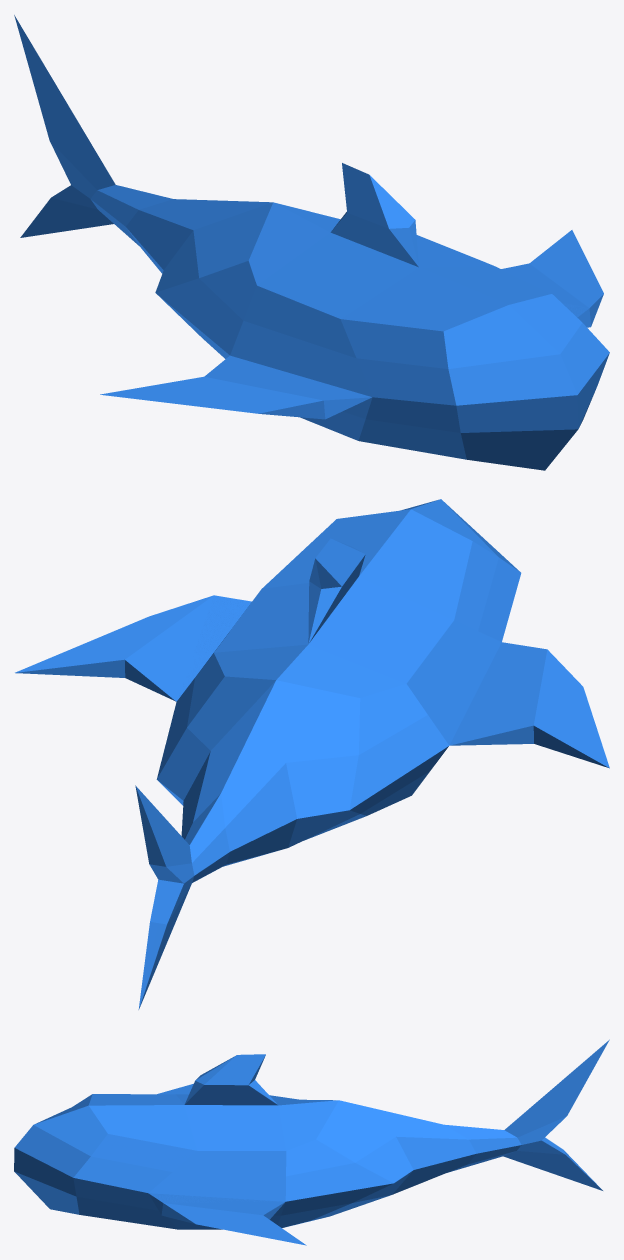
Rendered from Tiburonongus.fbx.
3 renders of one model, top to bottom at view 1: azimuth 30°, elevation 25°; view 2: azimuth 150°, elevation 25°; view 3: azimuth 270°, elevation 25°, orthographic. The views are drawn at different scales.
Visible parts, largest first — view 1: Cube; view 2: Cube; view 3: Cube.
Boxes of the visible parts, x1,y1,x2,y2 form: Cube: (14, 15, 609, 470); Cube: (15, 499, 609, 1009); Cube: (14, 1039, 609, 1245).
Bounding box in the file's own units: 395 × 177 × 568.
